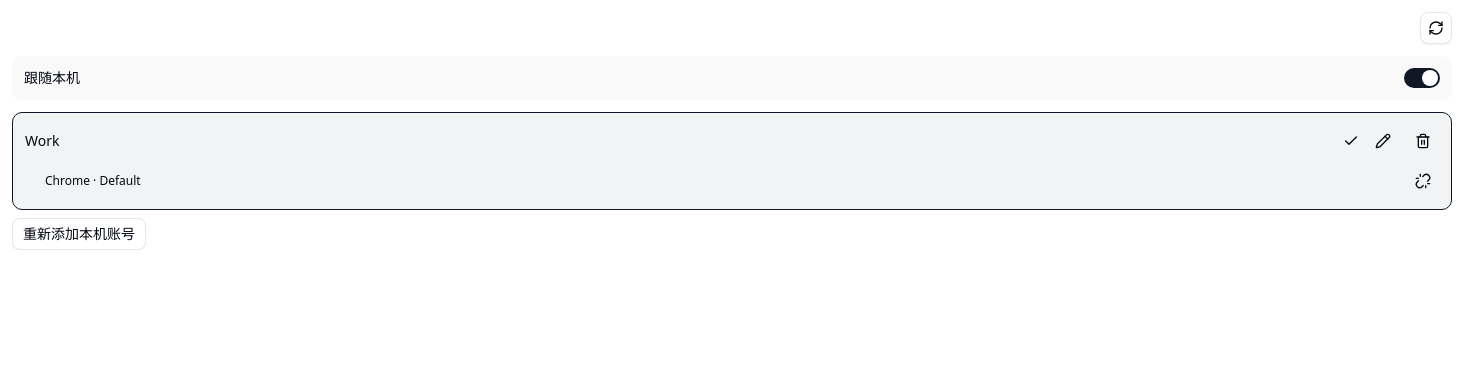
Account Management › cancels without a mutation then removes selected account and refreshes usage
The width and height of the screenshot is (1464, 369).
Check: the radio button labelled "Work" is shown, box [25, 131, 1359, 151]
Click the button named "移除 Work" at [1423, 141], box [1407, 125, 1439, 157]
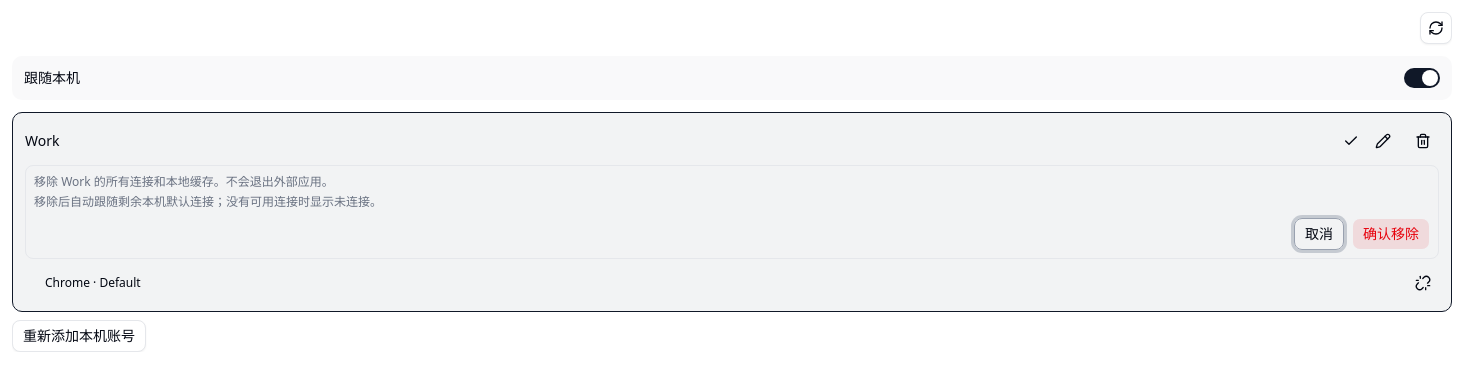
Check: the text "移除 Work 的所有连接和本地缓存。不会退出外部应用。" is shown, box [34, 173, 334, 190]
Click the button "取消" at [1319, 234], box [1294, 218, 1344, 250]
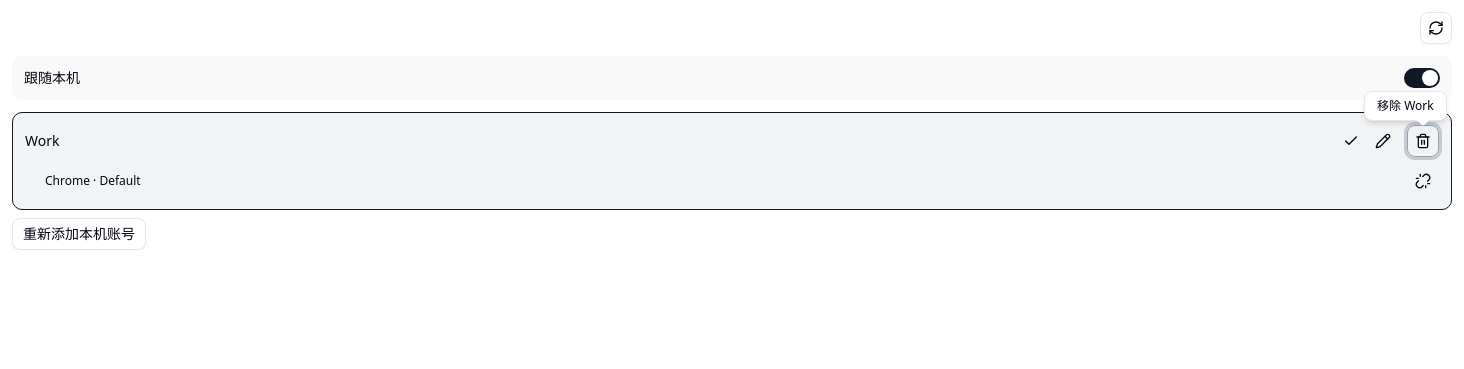
Click the button named "移除 Work" at [1423, 141], box [1407, 125, 1439, 157]
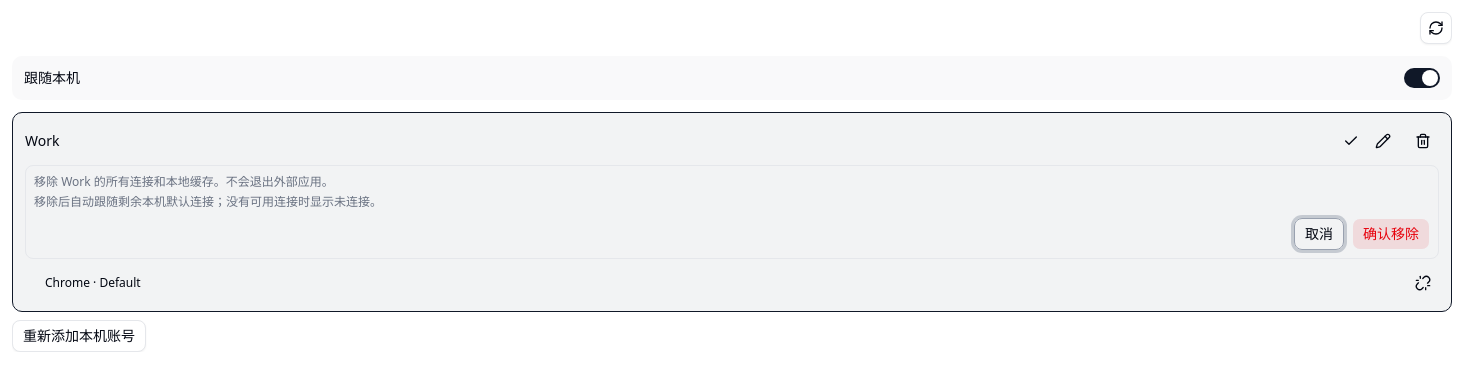
Click the button "确认移除" at [1391, 234], box [1352, 218, 1430, 250]
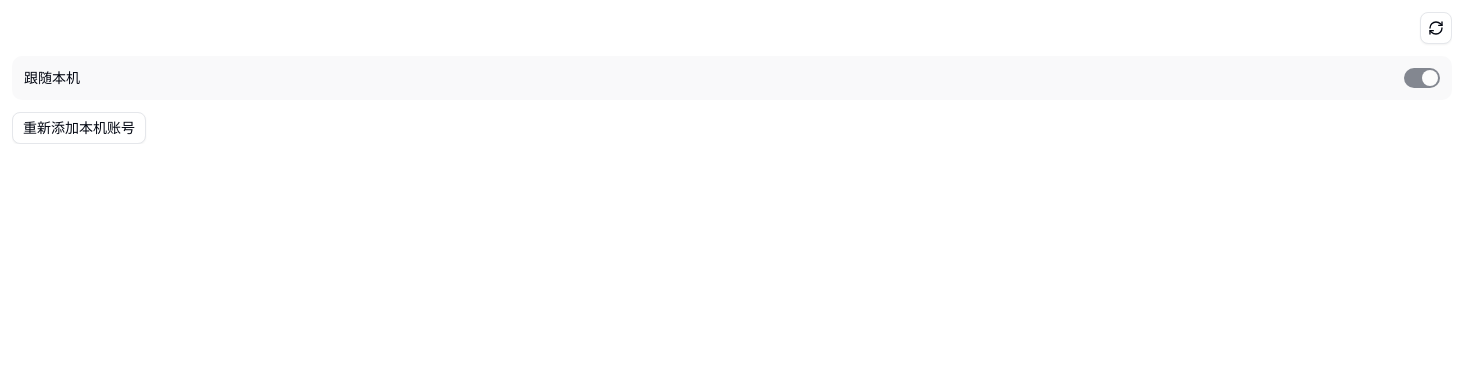
Check: the radio button labelled "Work" is gone
